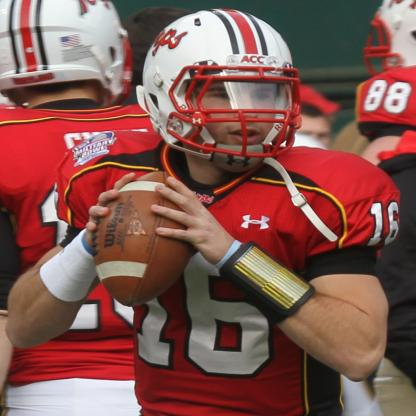Helmet: (134, 5, 302, 173), (0, 0, 136, 98), (363, 0, 415, 71)
